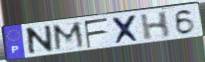6: (173, 8, 197, 36)
F: (82, 16, 110, 50)
H: (139, 10, 172, 42)
M: (51, 20, 88, 53)
N: (26, 23, 55, 57)
X: (111, 13, 143, 46)
